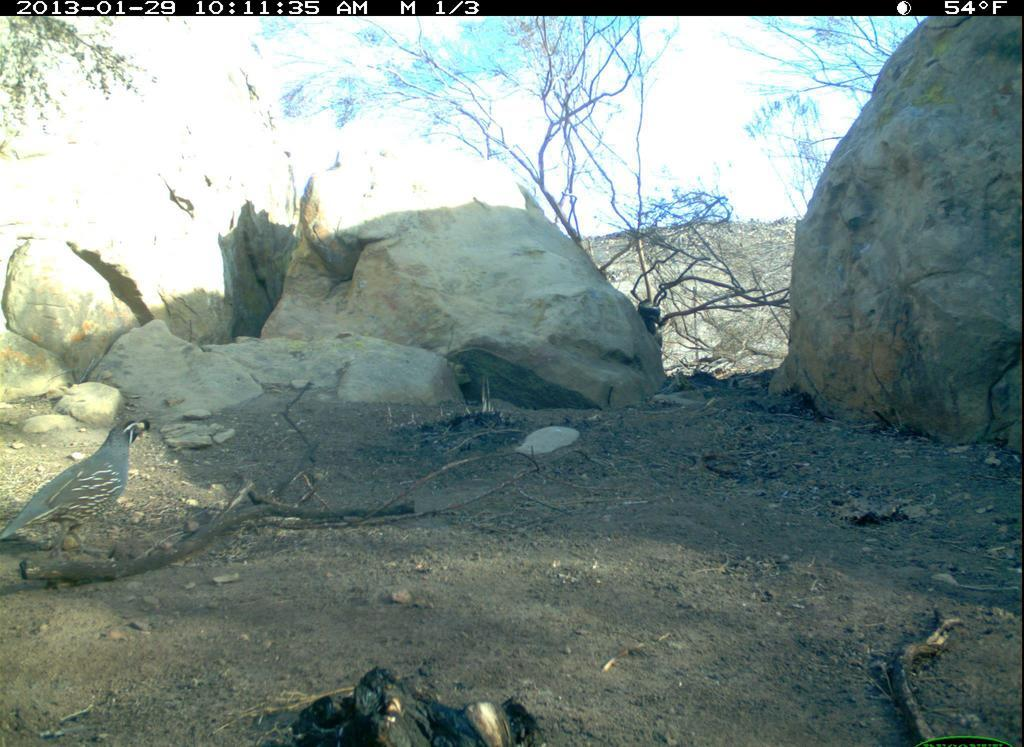bird: (1, 413, 172, 585)
